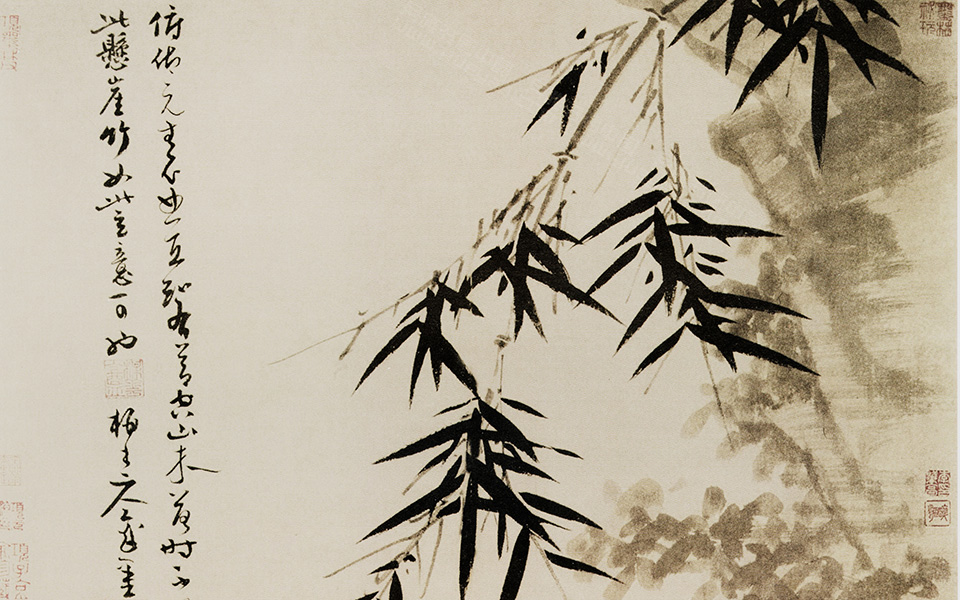bamboo: (598, 177, 802, 413), (392, 400, 587, 600), (667, 2, 939, 144), (341, 266, 489, 402), (491, 215, 602, 355)
